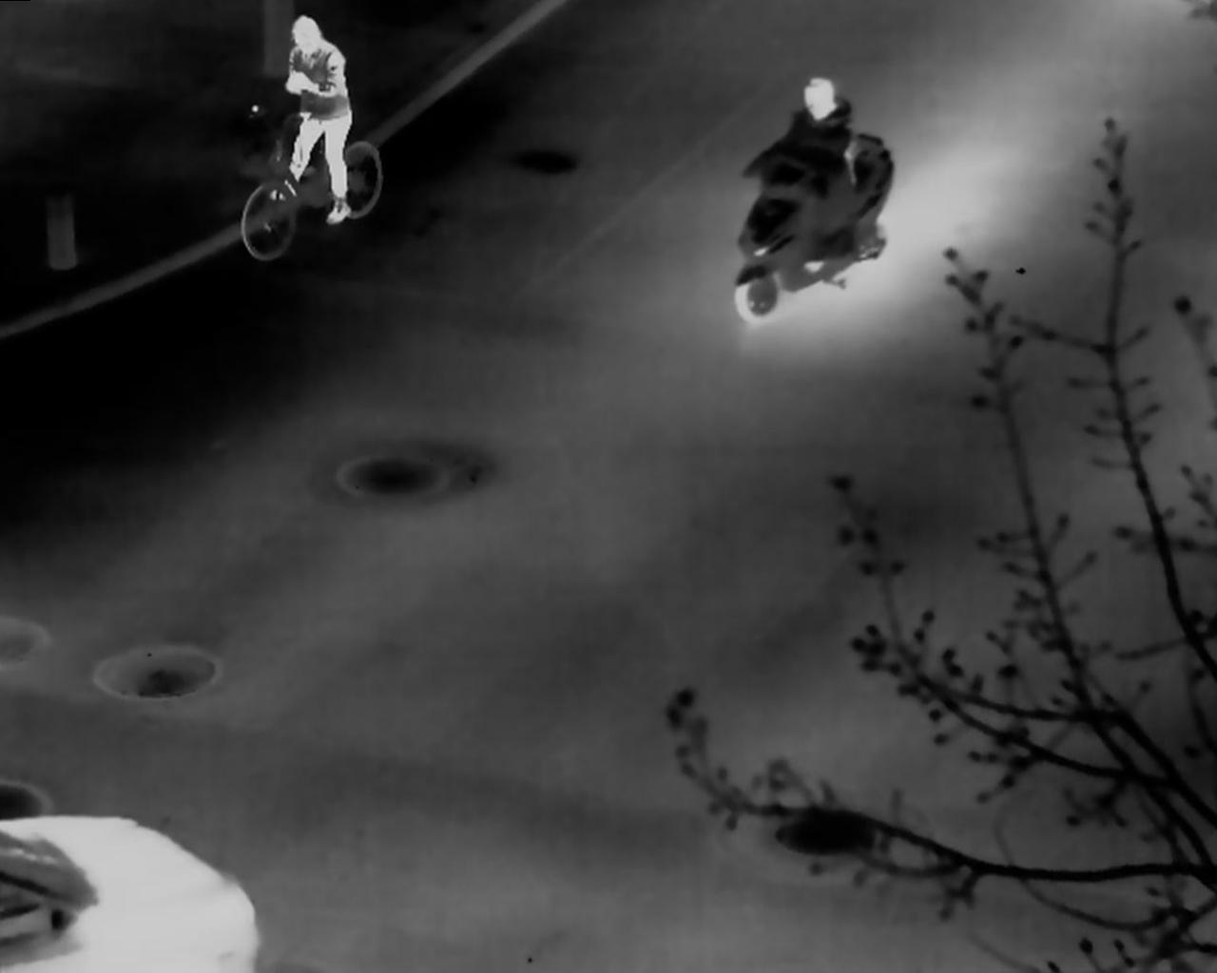person: (275, 11, 360, 232), (782, 76, 865, 251)
